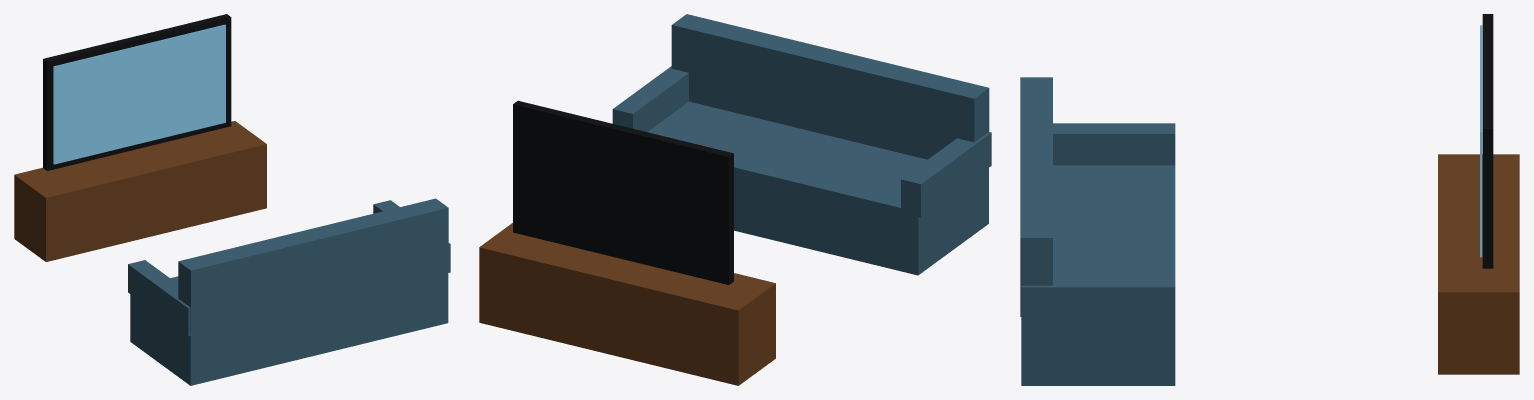
3 views of the same model, side by side, from view 1: azimuth 30°, elevation 25°; view 2: azimuth 150°, elevation 25°; view 3: azimuth 270°, elevation 25° (orthographic). The views are drawn at different scales.
Parts seen in each view (by area): view 1: Cabinet, BenchBack, Screen, BenchSeat, Television, Arm; view 2: Television, Cabinet, BenchSeat, BenchBack, Arm, _MeshInstance3D_65; view 3: BenchSeat, Cabinet, _MeshInstance3D_65, BenchBack, Arm, Television, Screen.
Boxes of the visible parts, x1,y1,x2,y2 form: Cabinet: [14, 121, 266, 261]; BenchBack: [178, 198, 448, 332]; Screen: [53, 24, 225, 164]; BenchSeat: [130, 269, 448, 385]; Television: [43, 14, 231, 170]; Arm: [128, 260, 192, 336]; Television: [513, 100, 733, 284]; Cabinet: [479, 223, 775, 385]; BenchSeat: [647, 101, 988, 275]; BenchBack: [671, 14, 989, 159]; Arm: [901, 132, 991, 217]; _MeshInstance3D_65: [612, 66, 688, 131]; BenchSeat: [1021, 165, 1175, 385]; Cabinet: [1438, 154, 1519, 374]; _MeshInstance3D_65: [1021, 276, 1175, 323]; BenchBack: [1020, 77, 1052, 316]; Arm: [1053, 123, 1175, 165]; Television: [1482, 14, 1493, 268]; Screen: [1480, 25, 1482, 257].
Bounding box in the file's own units: 2.14 × 1.43 × 2.76.
